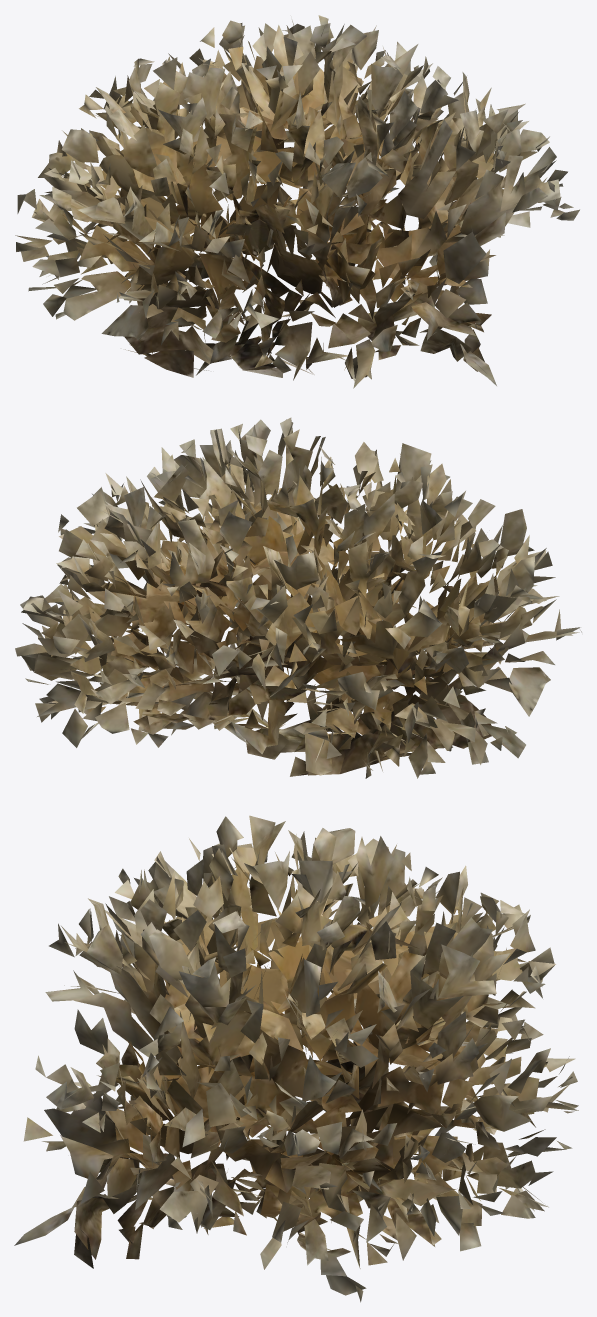
File: coral_pocillopora.glb
3 views of the same model, one above another, from view 1: azimuth 30°, elevation 25°; view 2: azimuth 150°, elevation 25°; view 3: azimuth 270°, elevation 25° (orthographic). The views are drawn at different scales.
Visible parts, largest first — view 1: Object_4, Object_5; view 2: Object_4, Object_5; view 3: Object_4, Object_5.
Part boxes in pixels (x1,y1,x2,y2): Object_4: (15,15,560,388); Object_5: (32,75,579,385); Object_4: (15,417,581,778); Object_5: (45,453,542,764); Object_4: (23,815,578,1295); Object_5: (14,851,578,1302).
Size of the model in its own units: 0.235 by 0.1407 by 0.2012.
Materials: 1 (1 with a texture image).
